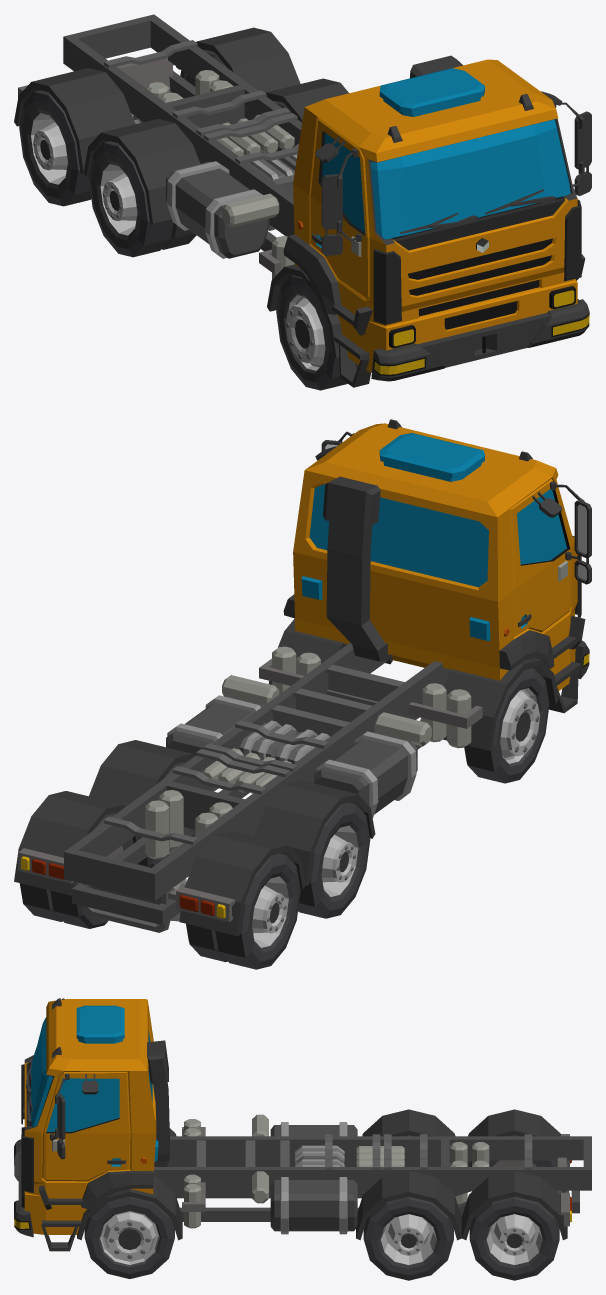
File: SM_Veh_Truck_01.fbx
3 views of the same model, one above another, from view 1: azimuth 30°, elevation 25°; view 2: azimuth 150°, elevation 25°; view 3: azimuth 270°, elevation 25° (orthographic). The views are drawn at different scales.
Parts seen in each view (by area): view 1: SM_Veh_Truck_01, SM_Veh_Truck_01_Glass, SM_Veh_Truck_01_Wheel_mr, SM_Veh_Truck_01_Wheel_rr, SM_Veh_Truck_01_Wheel_fr; view 2: SM_Veh_Truck_01, SM_Veh_Truck_01_Wheel_rr, SM_Veh_Truck_01_Wheel_mr, SM_Veh_Truck_01_Wheel_fr, SM_Veh_Truck_01_Glass, SM_Veh_Truck_01_Wheel_rl; view 3: SM_Veh_Truck_01, SM_Veh_Truck_01_Wheel_ml, SM_Veh_Truck_01_Wheel_rl, SM_Veh_Truck_01_Wheel_fl, SM_Veh_Truck_01_Glass, SM_Veh_Truck_01_Wheel_rr.
Part boxes in pixels (box(x1,y1,x2,y2)): SM_Veh_Truck_01: box(14, 14, 591, 387); SM_Veh_Truck_01_Glass: box(322, 119, 570, 239); SM_Veh_Truck_01_Wheel_mr: box(88, 141, 196, 257); SM_Veh_Truck_01_Wheel_rr: box(19, 90, 91, 206); SM_Veh_Truck_01_Wheel_fr: box(276, 275, 358, 390); SM_Veh_Truck_01: box(14, 419, 591, 936); SM_Veh_Truck_01_Wheel_rr: box(186, 853, 300, 969); SM_Veh_Truck_01_Wheel_mr: box(298, 802, 370, 918); SM_Veh_Truck_01_Wheel_fr: box(464, 668, 549, 783); SM_Veh_Truck_01_Glass: box(517, 489, 566, 564); SM_Veh_Truck_01_Wheel_rl: box(19, 813, 133, 928); SM_Veh_Truck_01: box(14, 998, 591, 1251); SM_Veh_Truck_01_Wheel_ml: box(363, 1196, 453, 1280); SM_Veh_Truck_01_Wheel_rl: box(469, 1196, 559, 1280); SM_Veh_Truck_01_Wheel_fl: box(84, 1196, 174, 1278); SM_Veh_Truck_01_Glass: box(31, 1017, 119, 1131); SM_Veh_Truck_01_Wheel_rr: box(470, 1135, 556, 1166).
Size of the model in its own units: 351 by 358 by 857.
Materials: 1 (1 with a texture image).
